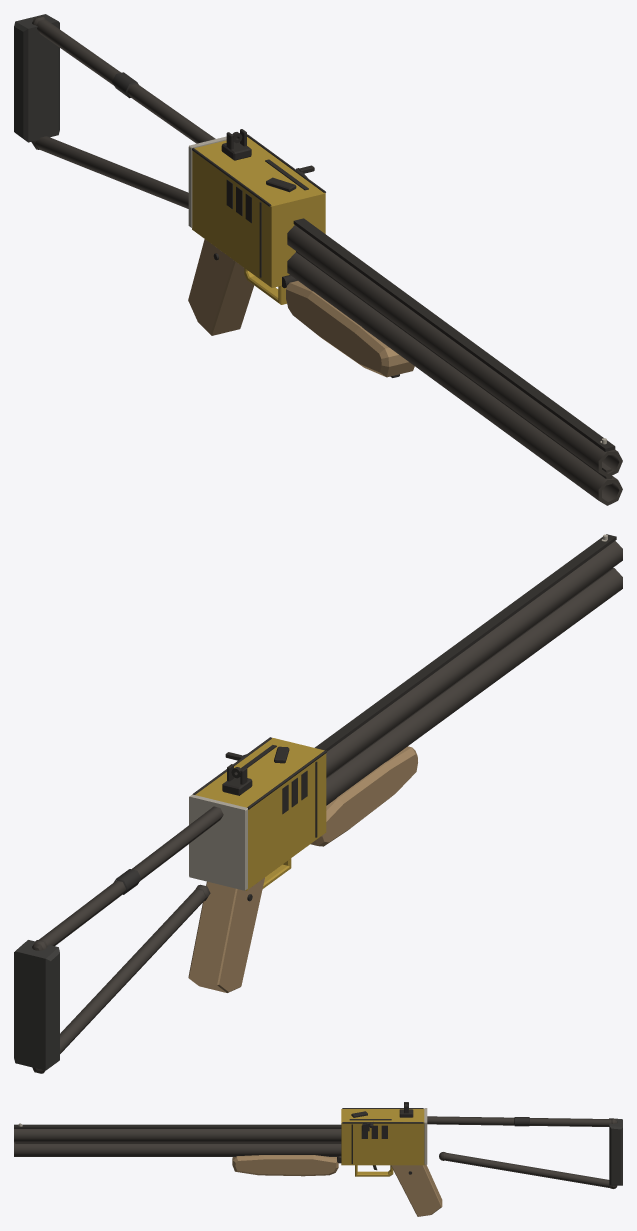
The model's file is BadGun_shotgun_scrap_5.glb.
3 views of the same model, one above another, from view 1: azimuth 30°, elevation 25°; view 2: azimuth 150°, elevation 25°; view 3: azimuth 270°, elevation 25° (orthographic). The views are drawn at different scales.
Visible parts, largest first — view 1: Barrel, Receiver, Stock, Handguard, Grip, Optic; view 2: Barrel, Receiver, Stock, Grip, Handguard; view 3: Barrel, Receiver, Stock, Handguard, Grip.
Boxes of the visible parts, x1=… form: Barrel: x1=287, y1=218, x2=622, y2=505; Receiver: x1=188, y1=134, x2=325, y2=304; Stock: x1=14, y1=14, x2=215, y2=208; Handguard: x1=286, y1=281, x2=414, y2=377; Grip: x1=188, y1=239, x2=253, y2=335; Optic: x1=221, y1=129, x2=251, y2=160; Barrel: x1=314, y1=534, x2=622, y2=805; Receiver: x1=189, y1=737, x2=326, y2=890; Stock: x1=14, y1=806, x2=223, y2=1073; Grip: x1=188, y1=877, x2=264, y2=992; Handguard: x1=310, y1=746, x2=417, y2=846; Barrel: x1=14, y1=1123, x2=341, y2=1156; Receiver: x1=337, y1=1108, x2=427, y2=1176; Stock: x1=427, y1=1116, x2=622, y2=1188; Handguard: x1=232, y1=1155, x2=338, y2=1176; Grip: x1=391, y1=1164, x2=442, y2=1216.
Bounding box in the file's own units: 0.0705 × 0.1951 × 0.9844.
